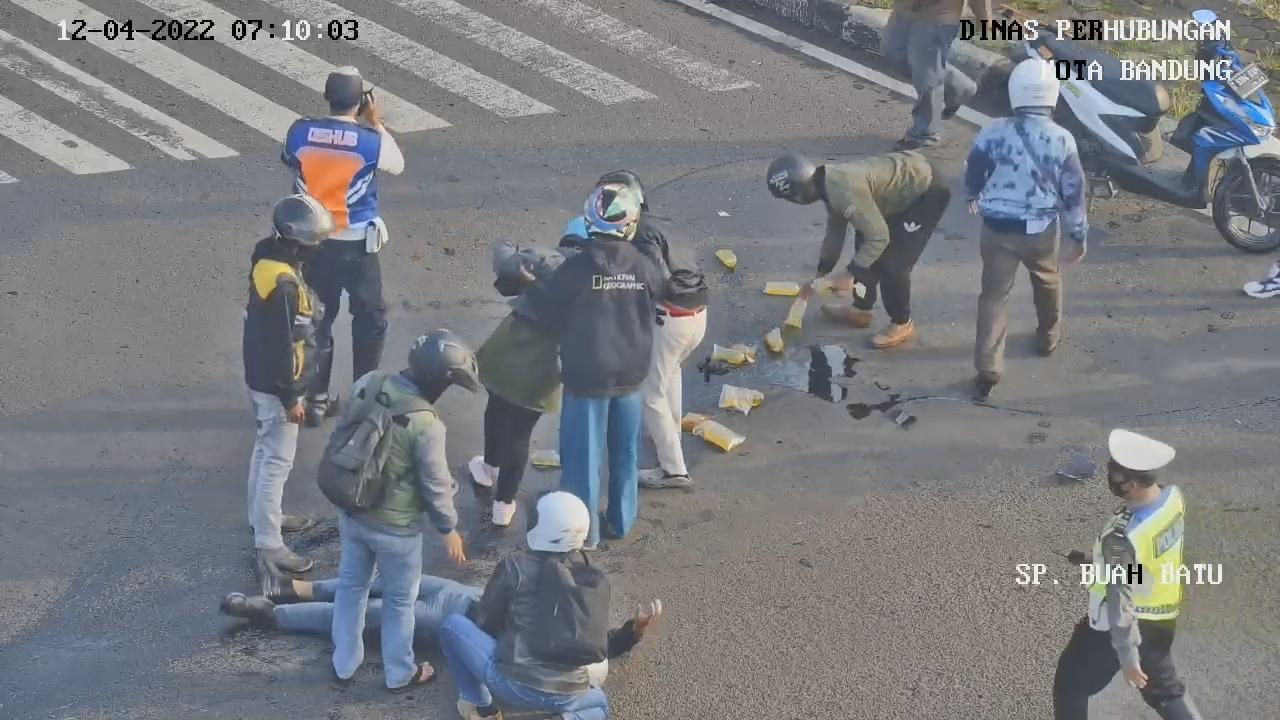accident: (212, 542, 486, 648)
